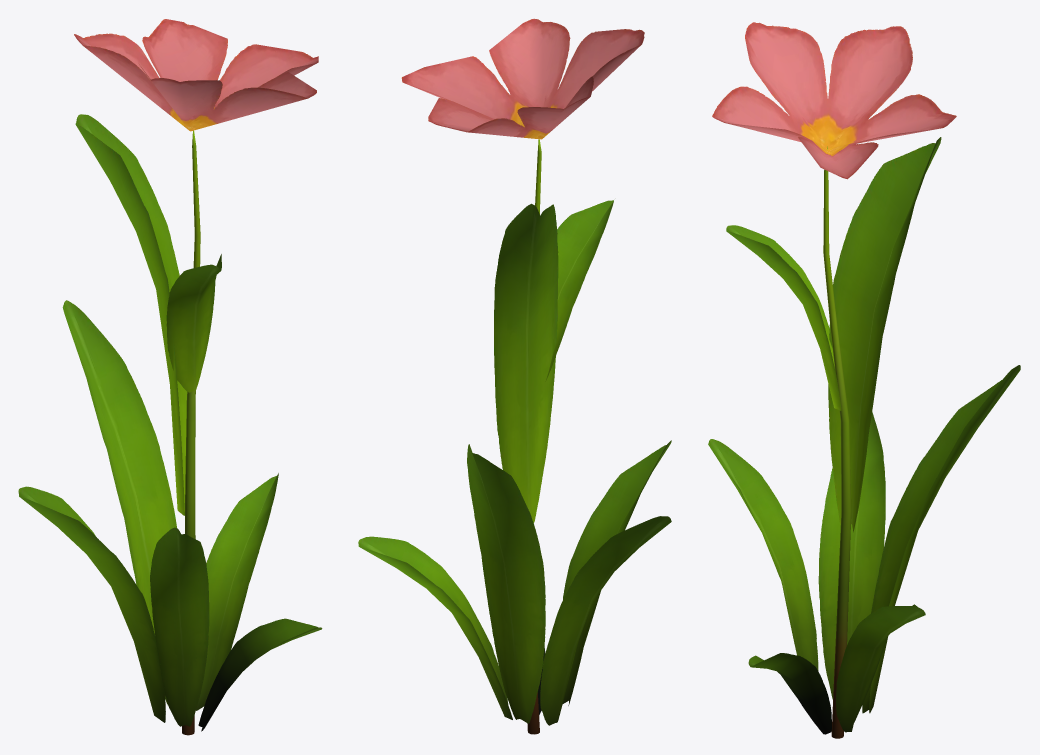
Rendered from Flower_3_Single.glb.
3 views of the same model, side by side, from view 1: azimuth 30°, elevation 25°; view 2: azimuth 150°, elevation 25°; view 3: azimuth 270°, elevation 25° (orthographic). The views are drawn at different scales.
Parts seen in each view (by area): view 1: Flower_3_Single; view 2: Flower_3_Single; view 3: Flower_3_Single.
Boxes of the visible parts, x1,y1,x2,y2 form: Flower_3_Single: [18, 19, 322, 735]; Flower_3_Single: [358, 18, 671, 734]; Flower_3_Single: [708, 22, 1020, 738].
Bounding box in the file's own units: 0.9067 × 2.07 × 0.8774.
Materials: 2 (2 with a texture image).
